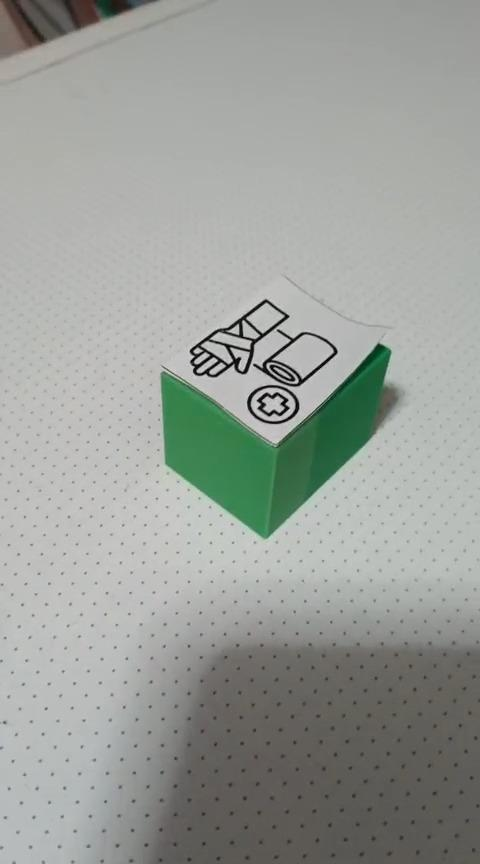Bandages: (158, 272, 393, 538)
